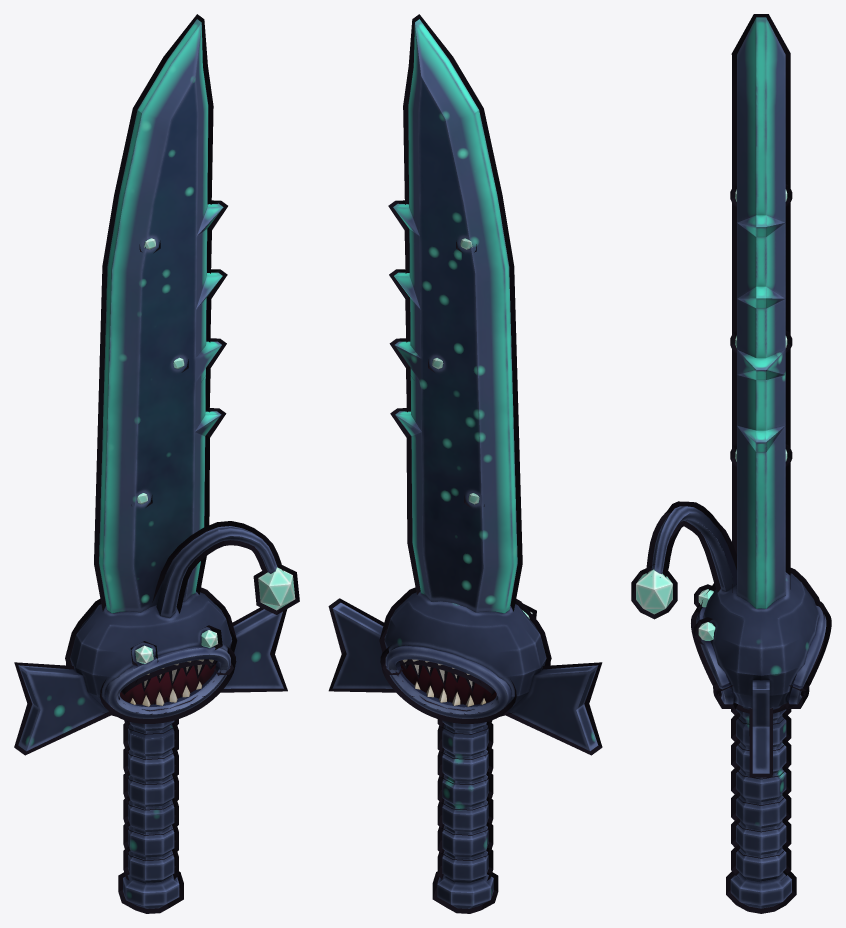
File: AnglerBlade.fbx
The picture shows the model from 3 angles, left to right: view 1: azimuth 30°, elevation 25°; view 2: azimuth 150°, elevation 25°; view 3: azimuth 270°, elevation 25°; orthographic projection. The views are drawn at different scales.
Visible parts, largest first — view 1: AnglerBlade, AnglerBladeOutline, AnglerBladeLureGlow; view 2: AnglerBlade, AnglerBladeOutline; view 3: AnglerBlade, AnglerBladeOutline, AnglerBladeLureGlow.
Part boxes in pixels (left/top/right/bottom): AnglerBlade: left=18, top=19, right=283, bottom=908; AnglerBladeOutline: left=14, top=14, right=299, bottom=913; AnglerBladeLureGlow: left=135, top=238, right=295, bottom=663; AnglerBlade: left=332, top=19, right=598, bottom=908; AnglerBladeOutline: left=328, top=14, right=602, bottom=913; AnglerBlade: left=651, top=17, right=826, bottom=908; AnglerBladeOutline: left=631, top=14, right=831, bottom=913; AnglerBladeLureGlow: left=636, top=189, right=787, bottom=640.
Size of the model in its own units: 131 by 417 by 82.56.
Materials: 2 (1 with a texture image).
